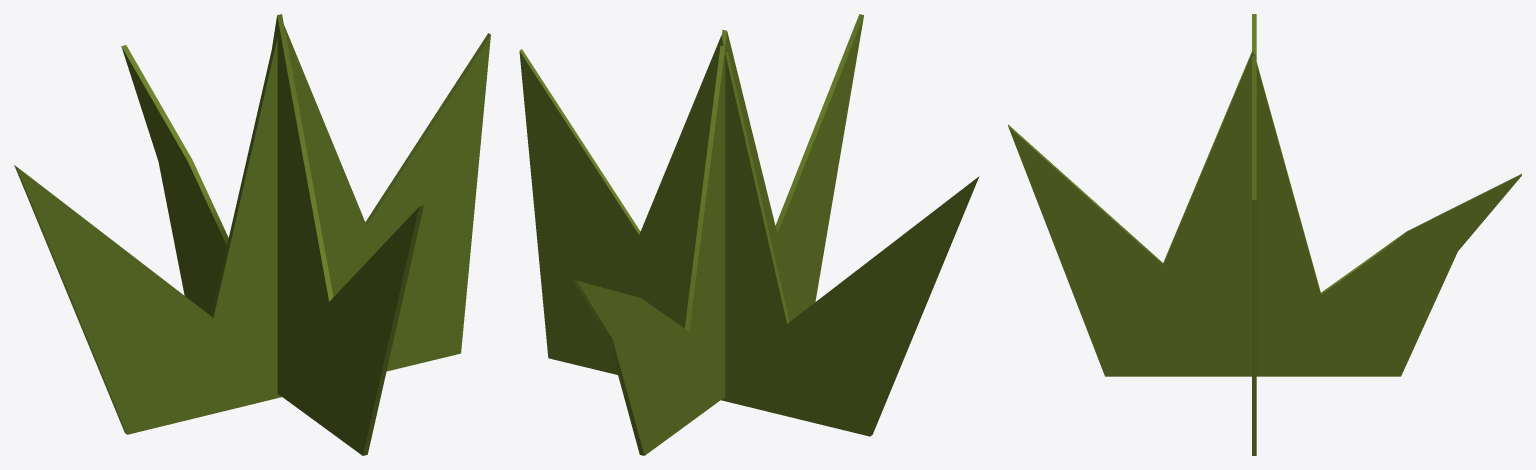
File: PlantGreen02.fbx
3 views of the same model, side by side, from view 1: azimuth 30°, elevation 25°; view 2: azimuth 150°, elevation 25°; view 3: azimuth 270°, elevation 25° (orthographic). The views are drawn at different scales.
Parts seen in each view (by area): view 1: pPlane46; view 2: pPlane46; view 3: pPlane46.
Boxes of the visible parts, bbox=[...] form: pPlane46: bbox=[14, 14, 490, 455]; pPlane46: bbox=[519, 14, 979, 455]; pPlane46: bbox=[1008, 14, 1521, 455].
Bounding box in the file's own units: 0.8137 × 0.6274 × 0.8847.
